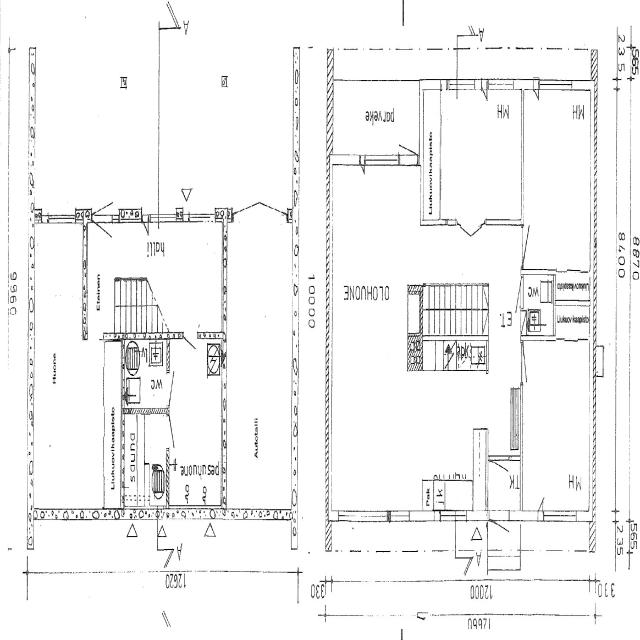door: (232, 144, 260, 223), (260, 144, 288, 223), (91, 162, 112, 223), (91, 210, 112, 270), (489, 510, 508, 566), (489, 455, 509, 507), (400, 113, 418, 164), (520, 342, 540, 383), (520, 227, 540, 267), (471, 219, 486, 258), (166, 415, 183, 448), (166, 372, 183, 405), (457, 219, 471, 258), (184, 333, 198, 371), (507, 276, 522, 308)
